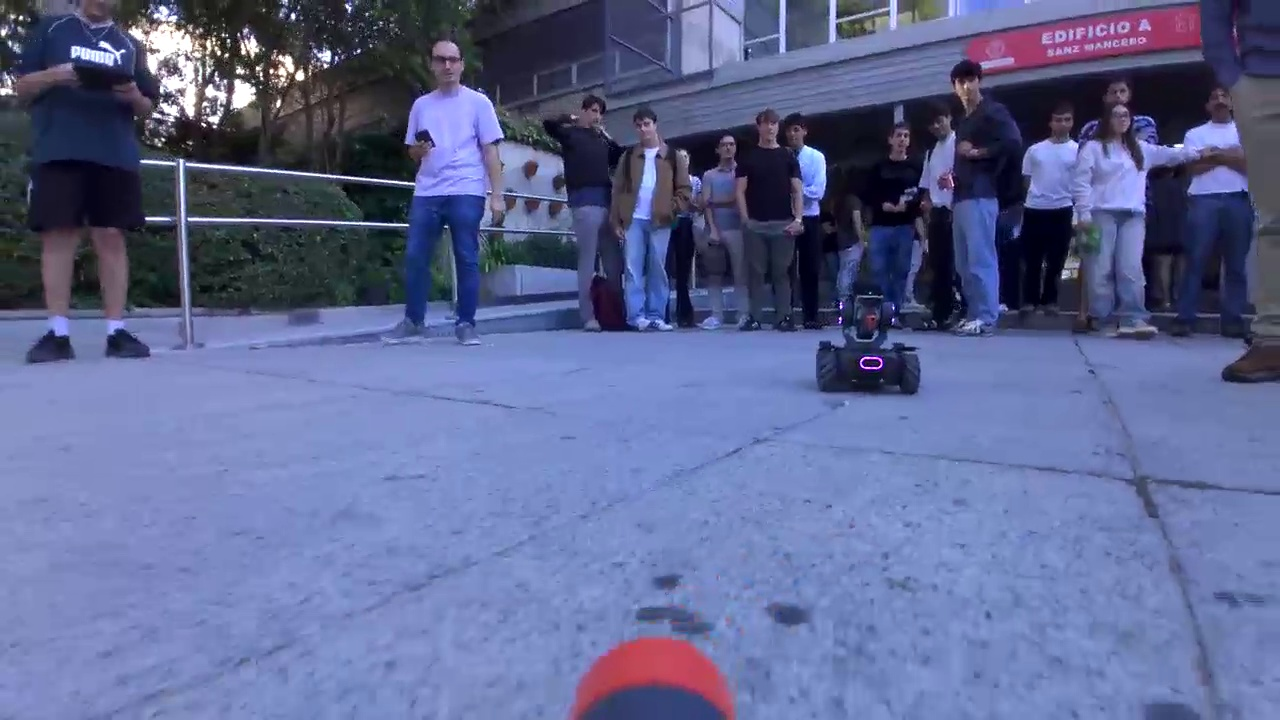robot: (806, 291, 919, 404)
